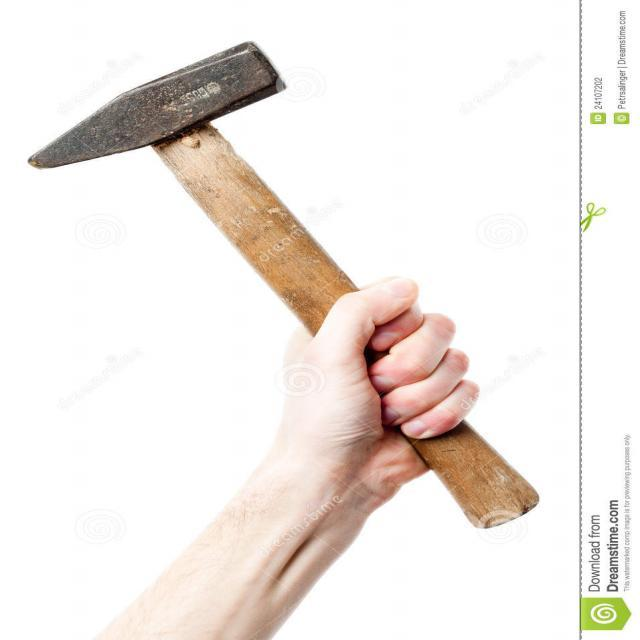hammer: (10, 34, 548, 539)
